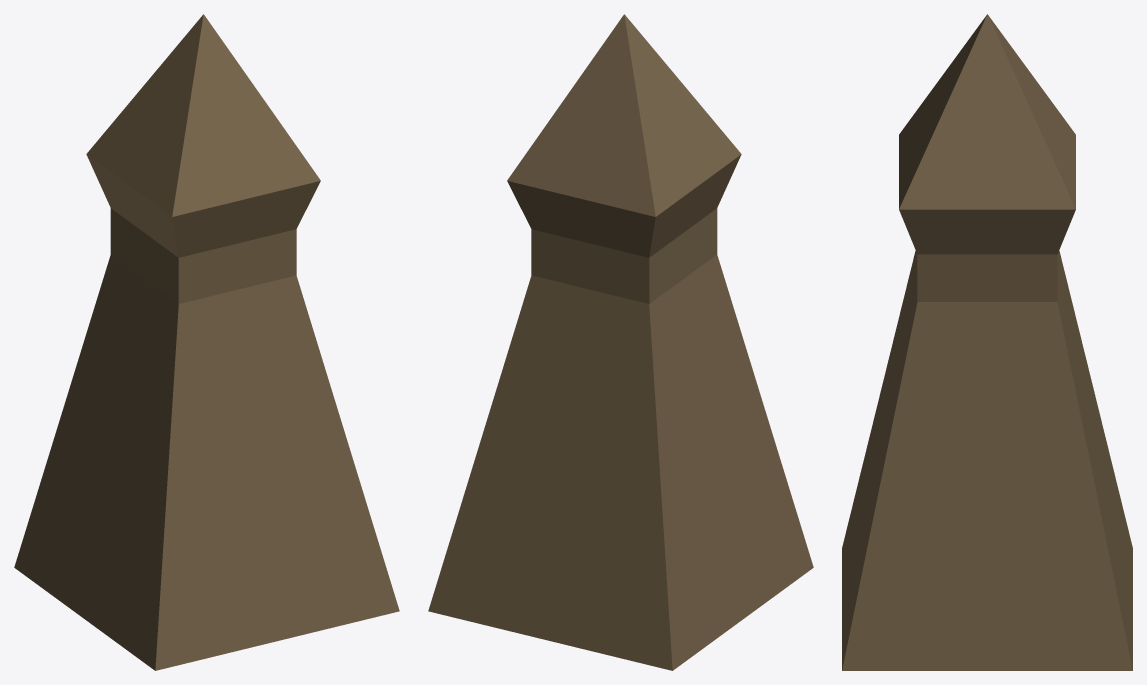
Rendered from bishop_black.fbx.
The picture shows the model from 3 angles, left to right: view 1: azimuth 30°, elevation 25°; view 2: azimuth 150°, elevation 25°; view 3: azimuth 270°, elevation 25°; orthographic projection. The views are drawn at different scales.
Visible parts, largest first — view 1: Cube.009; view 2: Cube.009; view 3: Cube.009.
Boxes of the visible parts, left/top/right/bottom form: Cube.009: left=14, top=14, right=399, bottom=670; Cube.009: left=428, top=14, right=813, bottom=670; Cube.009: left=842, top=14, right=1132, bottom=670.
Size of the model in its own units: 2.8 by 6.3 by 2.8.
